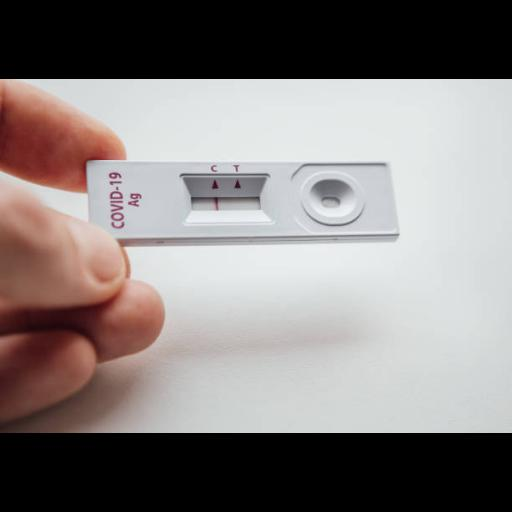Neg: (86, 160, 400, 240)
